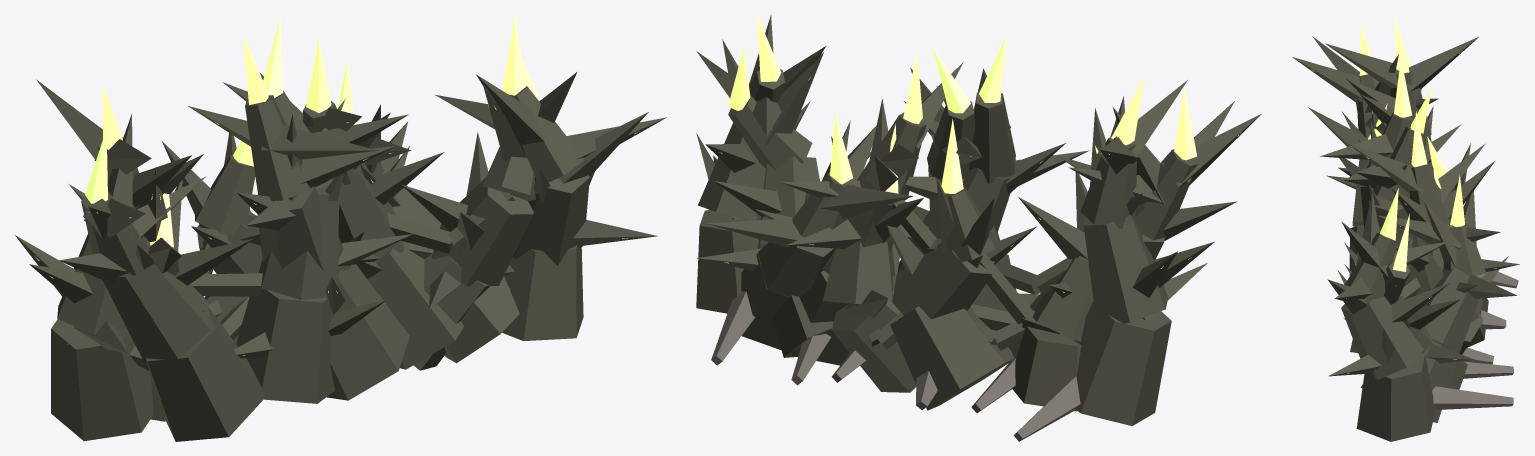
The model's file is thorn_wall_1.glb.
The picture shows the model from 3 angles, left to right: view 1: azimuth 30°, elevation 25°; view 2: azimuth 150°, elevation 25°; view 3: azimuth 270°, elevation 25°; orthographic projection. The views are drawn at different scales.
Parts seen in each view (by area): view 1: thorn_wall_1; view 2: thorn_wall_1; view 3: thorn_wall_1.
Boxes of the visible parts, <box> form: thorn_wall_1: <box>15,14,666,441</box>; thorn_wall_1: <box>696,14,1261,441</box>; thorn_wall_1: <box>1292,15,1519,441</box>.
Size of the model in its own units: 4.27 by 2.65 by 1.92.
